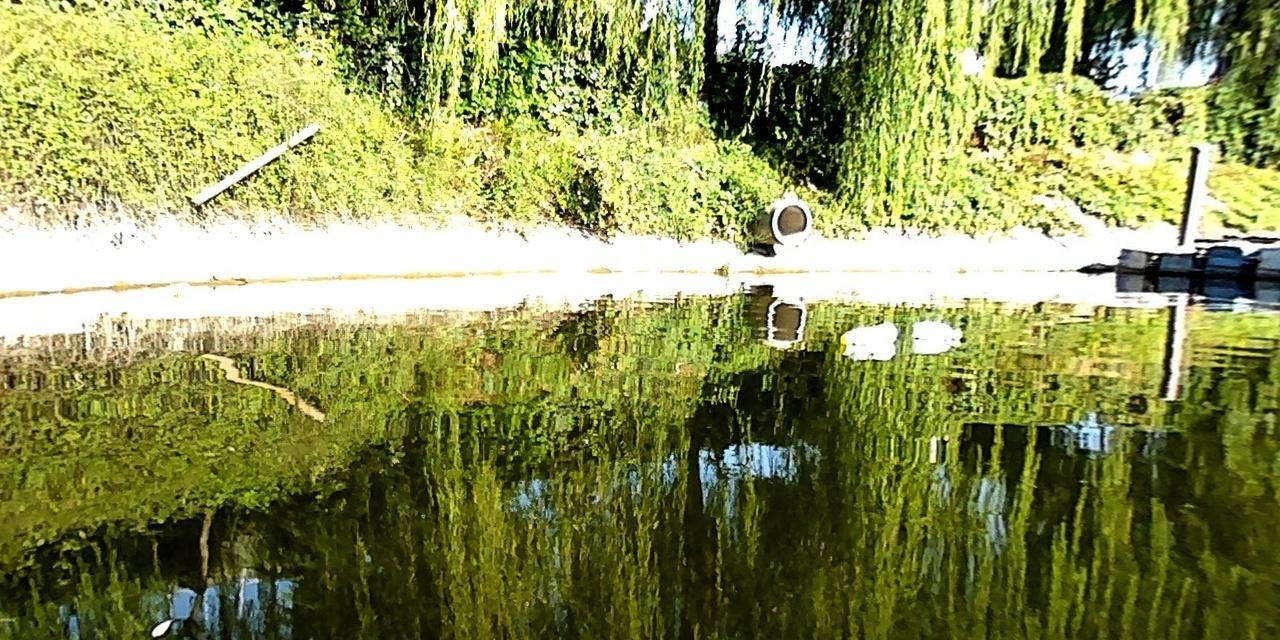bottle: (837, 322, 894, 344), (911, 317, 960, 341)
